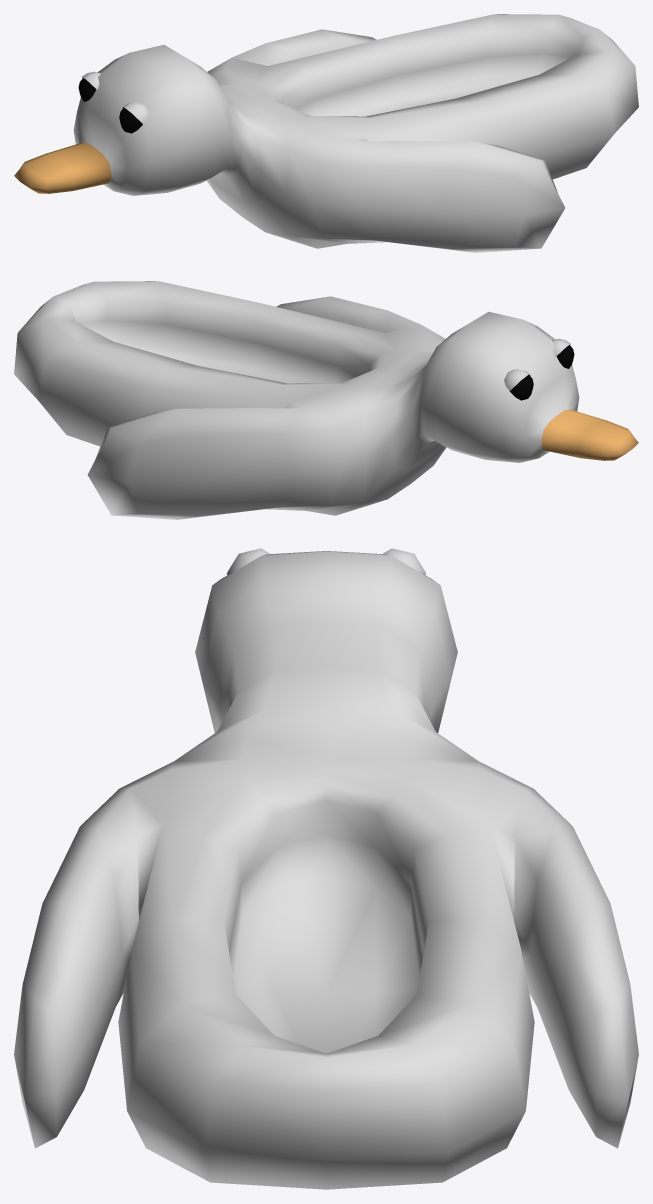
File: PROJECT DREAM - Duck.fbx
The picture shows the model from 3 angles, top to bottom: view 1: azimuth 30°, elevation 25°; view 2: azimuth 150°, elevation 25°; view 3: azimuth 270°, elevation 25°; orthographic projection. The views are drawn at different scales.
Visible parts, largest first — view 1: Duck; view 2: Duck; view 3: Duck.
Boxes of the visible parts, left/top/right/bottom form: Duck: left=14, top=14, right=638, bottom=252; Duck: left=14, top=281, right=638, bottom=519; Duck: left=14, top=548, right=638, bottom=1189.
Bounding box in the file's own units: 424 × 135 × 226.
